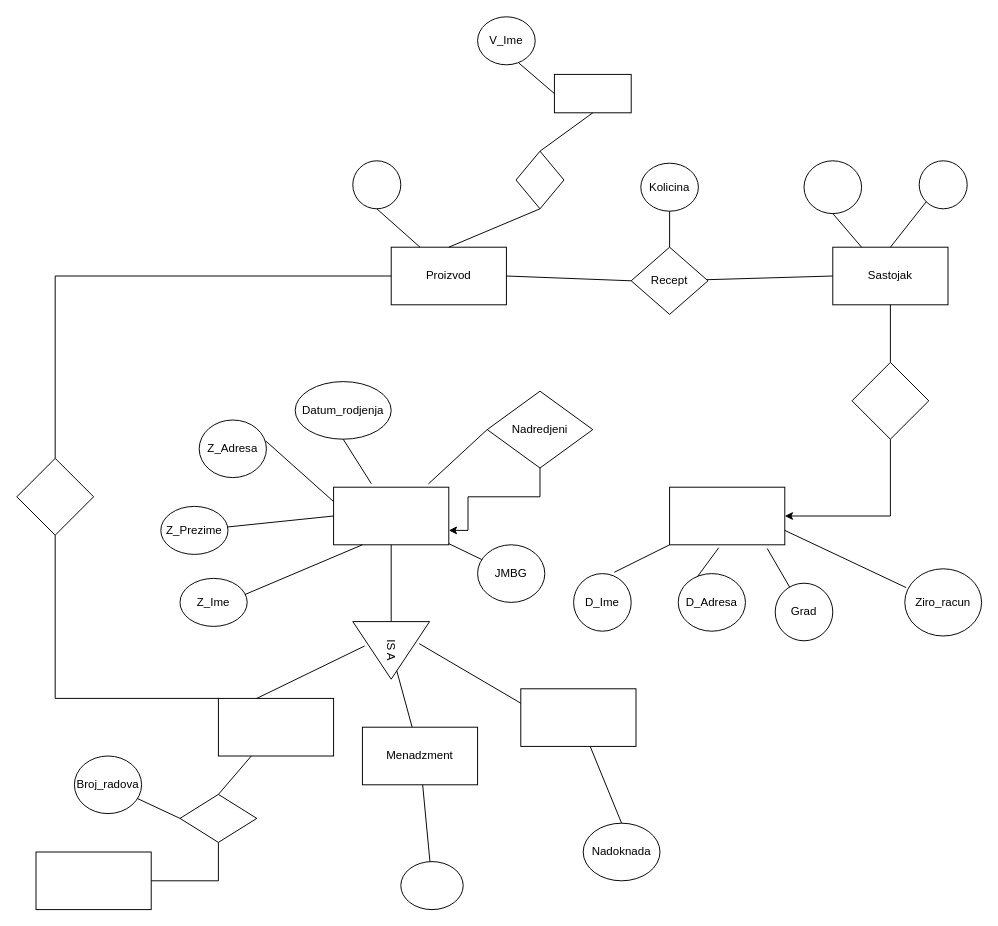
Image size: 998x926. Some labels were removed from this diagram. Each missing label, with the centre of its shape:
Cal: point 942,184
Dobavljac: point 727,515
Istrazivac: point 275,726
Oblast: point 93,880
P_ID: point 376,184
Radnik: point 578,717
S_Ime: point 832,187
Stepen_SS: point 431,885
Vrsta: point 592,93
Zaposleni: point 391,515
